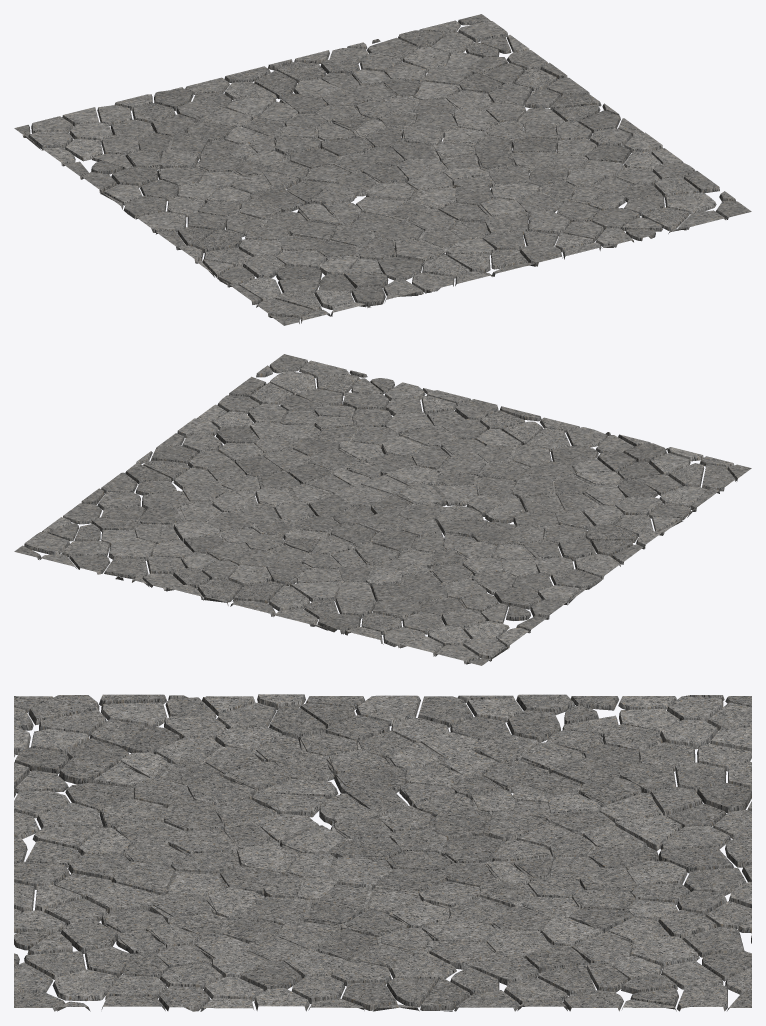
File: road-fan.glb
3 renders of one model, top to bottom at view 1: azimuth 30°, elevation 25°; view 2: azimuth 150°, elevation 25°; view 3: azimuth 270°, elevation 25°, orthographic. The views are drawn at different scales.
Visible parts, largest first — view 1: RoadFan_0, RoadFan_2, RoadFan_1; view 2: RoadFan_0, RoadFan_2, RoadFan_1; view 3: RoadFan_0, RoadFan_2, RoadFan_1.
Boxes of the visible parts, x1,y1,x2,y2 form: RoadFan_0: [14, 14, 751, 325]; RoadFan_2: [67, 41, 708, 306]; RoadFan_1: [66, 41, 707, 311]; RoadFan_0: [14, 354, 751, 665]; RoadFan_2: [82, 374, 702, 643]; RoadFan_1: [76, 374, 703, 645]; RoadFan_0: [14, 694, 751, 1011]; RoadFan_2: [26, 703, 744, 1002]; RoadFan_1: [27, 703, 744, 1006].
Bounding box in the file's own units: 2.4 × 0.0207 × 2.4.
Materials: 1 (1 with a texture image).
